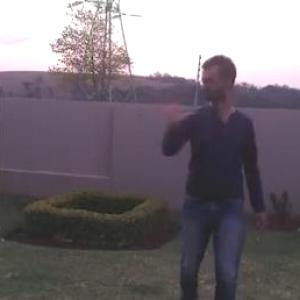follow_hand: (149, 87, 193, 127)
